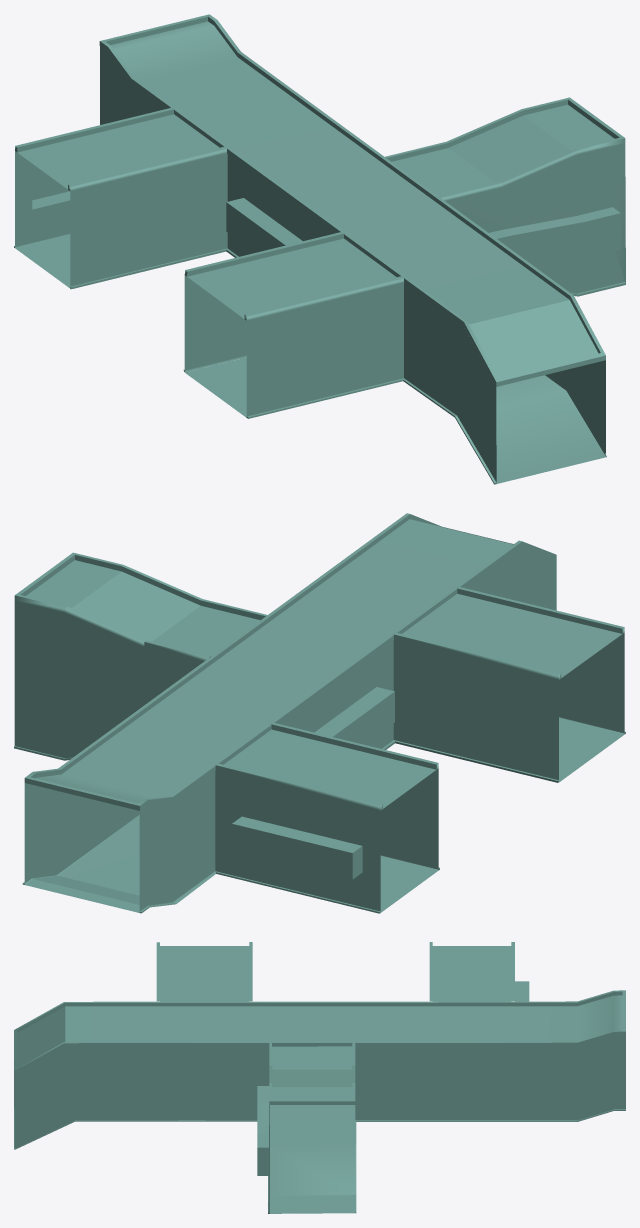
Rendered from PASILLO.fbx.
The picture shows the model from 3 angles, top to bottom: view 1: azimuth 30°, elevation 25°; view 2: azimuth 150°, elevation 25°; view 3: azimuth 270°, elevation 25°; orthographic projection. The views are drawn at different scales.
Parts seen in each view (by area): view 1: WALLS, FLOOR; view 2: WALLS, FLOOR; view 3: WALLS, FLOOR.
Part boxes in pixels (x1=…): WALLS: x1=14, y1=14, x2=625, y2=484; FLOOR: x1=15, y1=235, x2=605, y2=483; WALLS: x1=14, y1=513, x2=625, y2=913; FLOOR: x1=25, y1=718, x2=624, y2=912; WALLS: x1=14, y1=942, x2=625, y2=1213; FLOOR: x1=14, y1=1105, x2=355, y2=1213.
Bounding box in the file's own units: 3302 × 1070 × 5021.
